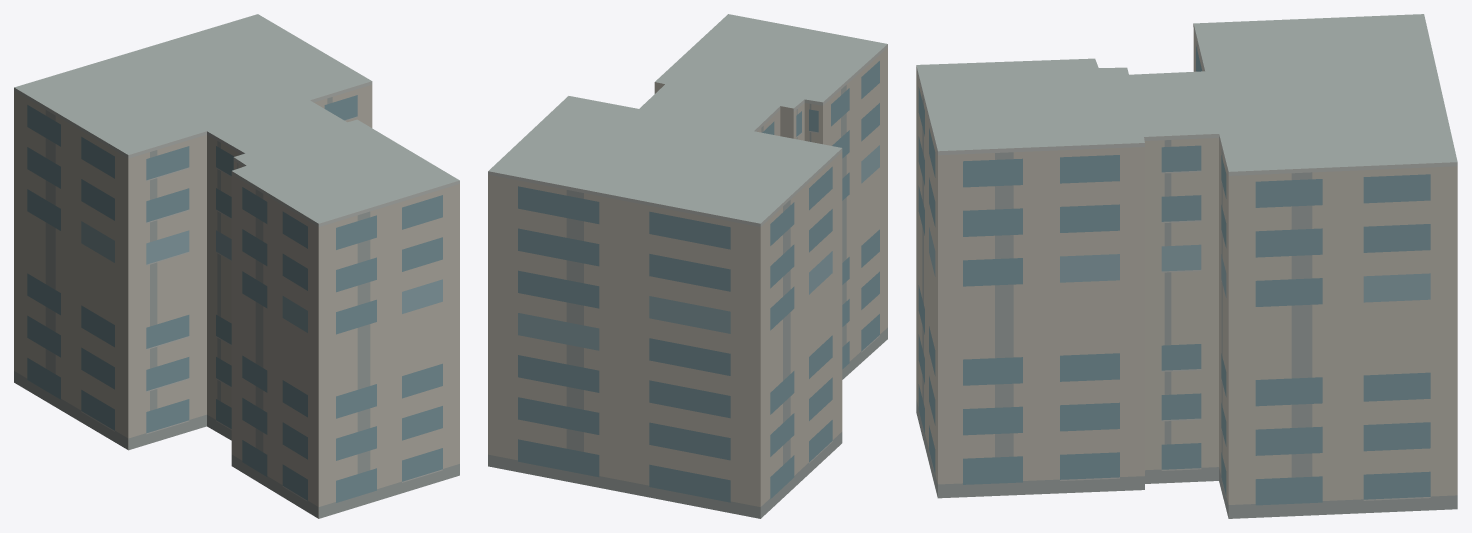
File: survey-upis-32929835.glb
3 views of the same model, side by side, from view 1: azimuth 30°, elevation 25°; view 2: azimuth 150°, elevation 25°; view 3: azimuth 270°, elevation 25° (orthographic). The views are drawn at different scales.
Parts seen in each view (by area): view 1: survey-upis-32929835.tmp; view 2: survey-upis-32929835.tmp; view 3: survey-upis-32929835.tmp.
Part boxes in pixels (box(x1,y1,x2,y2)): survey-upis-32929835.tmp: box(14, 14, 459, 518); survey-upis-32929835.tmp: box(488, 14, 887, 518); survey-upis-32929835.tmp: box(916, 14, 1457, 518).
Size of the model in its own units: 20.15 by 20.65 by 29.21.
